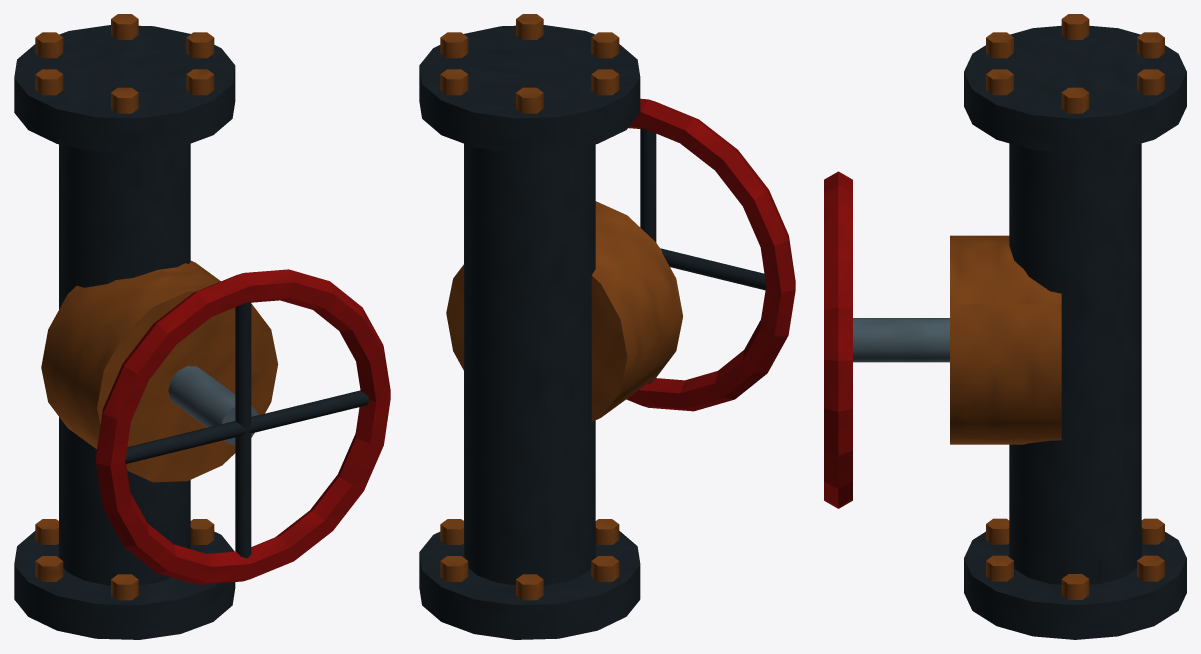
Rendered from pipe_valve.glb.
3 views of the same model, side by side, from view 1: azimuth 30°, elevation 25°; view 2: azimuth 150°, elevation 25°; view 3: azimuth 270°, elevation 25° (orthographic).
Parts seen in each view (by area): view 1: pipe_valve; view 2: pipe_valve; view 3: pipe_valve.
Part boxes in pixels (x1=…): pipe_valve: x1=14, y1=14, x2=390, y2=639; pipe_valve: x1=419, y1=14, x2=795, y2=639; pipe_valve: x1=824, y1=14, x2=1186, y2=639.
Bounding box in the file's own units: 0.488 × 0.85 × 0.5208.
4 materials, 4 textured.
